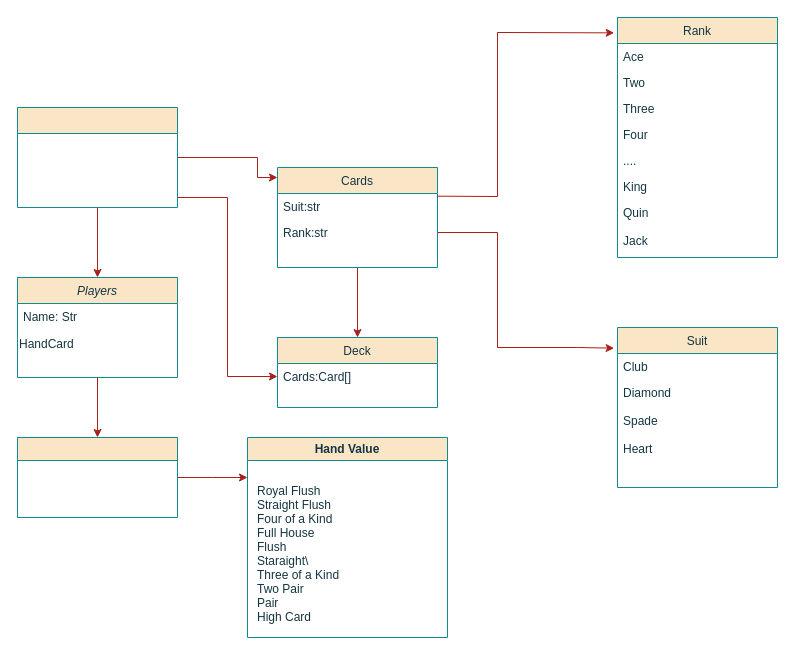
Some shapes in this 795 by 655 pixel diagram are drawn without their labels. The shapes that lost their labels are listed below. From the top down, each one's centre as x and y in pixels, then its label:
[97,157]: POKER GAME
[97,477]: Hand
